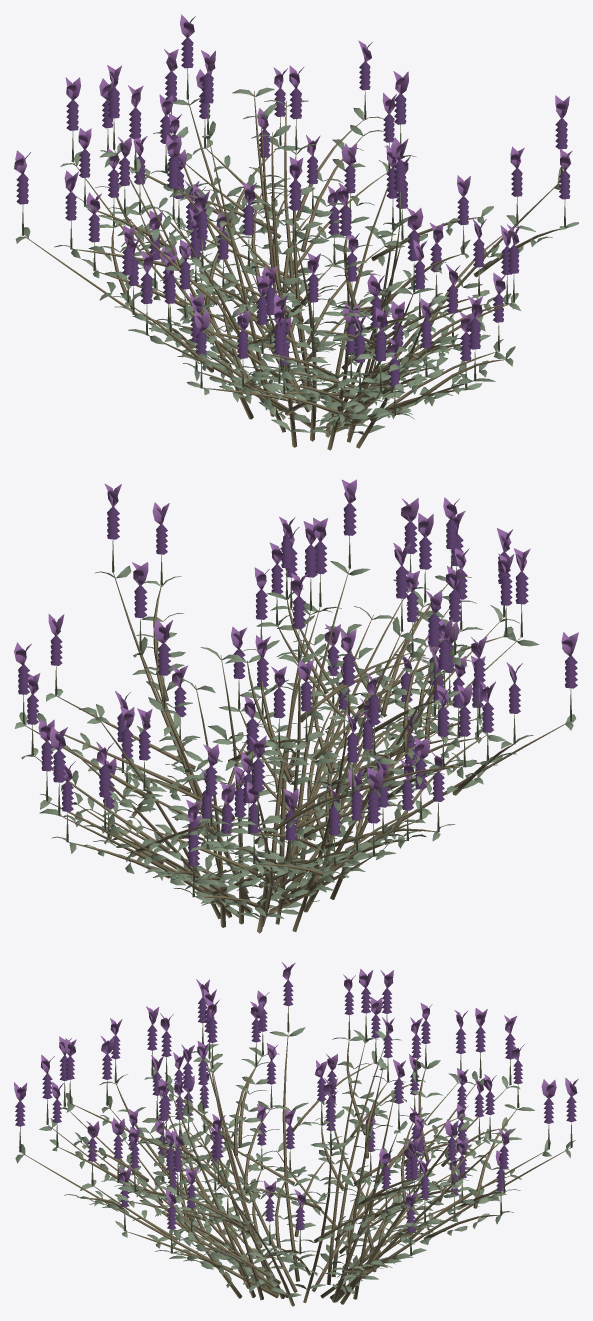
File: Lavande_Etale_LOD0.fbx
3 renders of one model, top to bottom at view 1: azimuth 30°, elevation 25°; view 2: azimuth 150°, elevation 25°; view 3: azimuth 270°, elevation 25°, orthographic. The views are drawn at different scales.
Visible parts, largest first — view 1: Lavande_Etale; view 2: Lavande_Etale; view 3: Lavande_Etale.
Boxes of the visible parts, box(x1,y1,x2,y2) form: Lavande_Etale: box(14, 14, 578, 450); Lavande_Etale: box(14, 479, 578, 933); Lavande_Etale: box(14, 962, 578, 1306).
Bounding box in the file's own units: 73.93 × 56.55 × 97.11.
